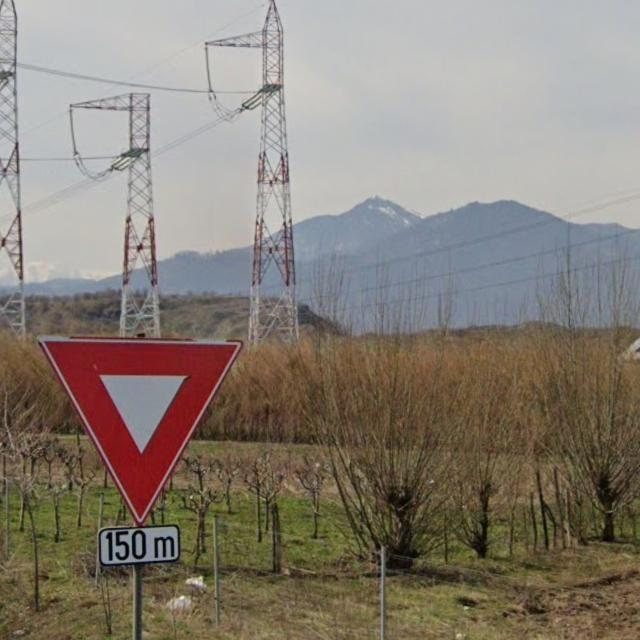prio_give_way: (36, 335, 239, 524)
